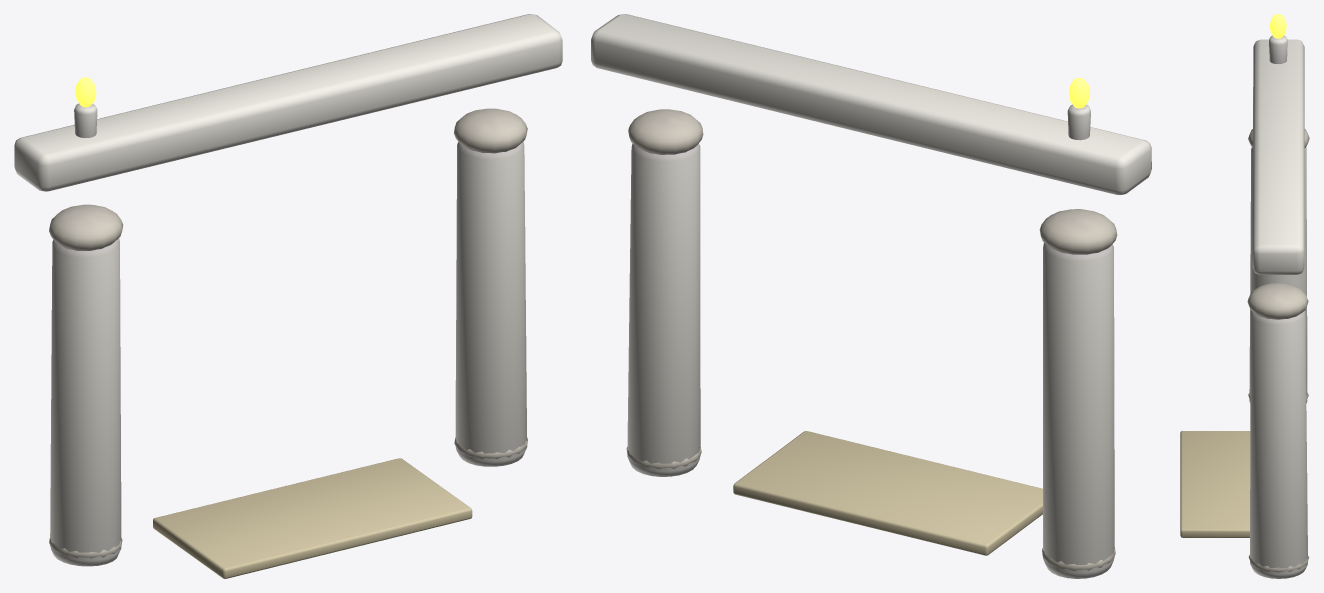
3 views of the same model, side by side, from view 1: azimuth 30°, elevation 25°; view 2: azimuth 150°, elevation 25°; view 3: azimuth 270°, elevation 25° (orthographic). The views are drawn at different scales.
Parts seen in each view (by area): view 1: gate_e6a18f8b; view 2: gate_e6a18f8b; view 3: gate_e6a18f8b.
Boxes of the visible parts, <box> form: gate_e6a18f8b: <box>14,14,562,578</box>; gate_e6a18f8b: <box>591,14,1151,578</box>; gate_e6a18f8b: <box>1180,14,1309,578</box>.
Bounding box in the file's own units: 5.05 × 4.41 × 1.31.
